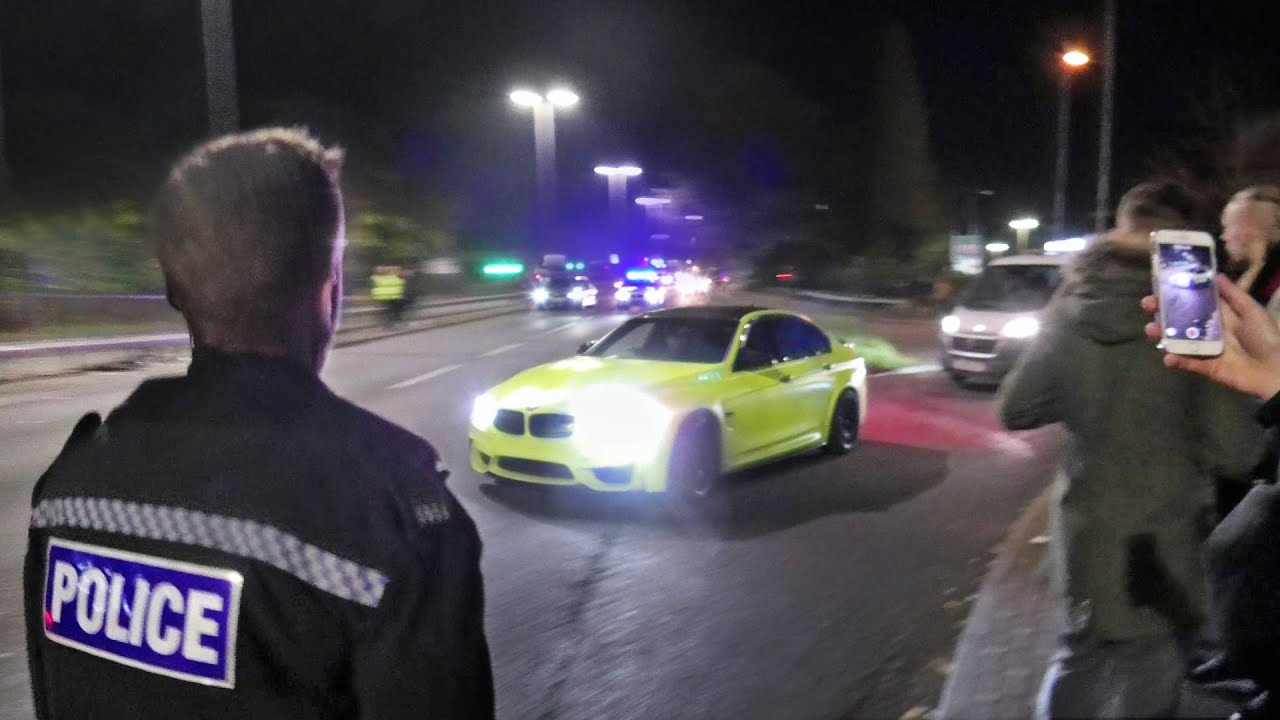Car: (470, 307, 887, 517)
Person: (25, 128, 497, 720)
